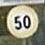limite 50: (5, 5, 39, 38)
